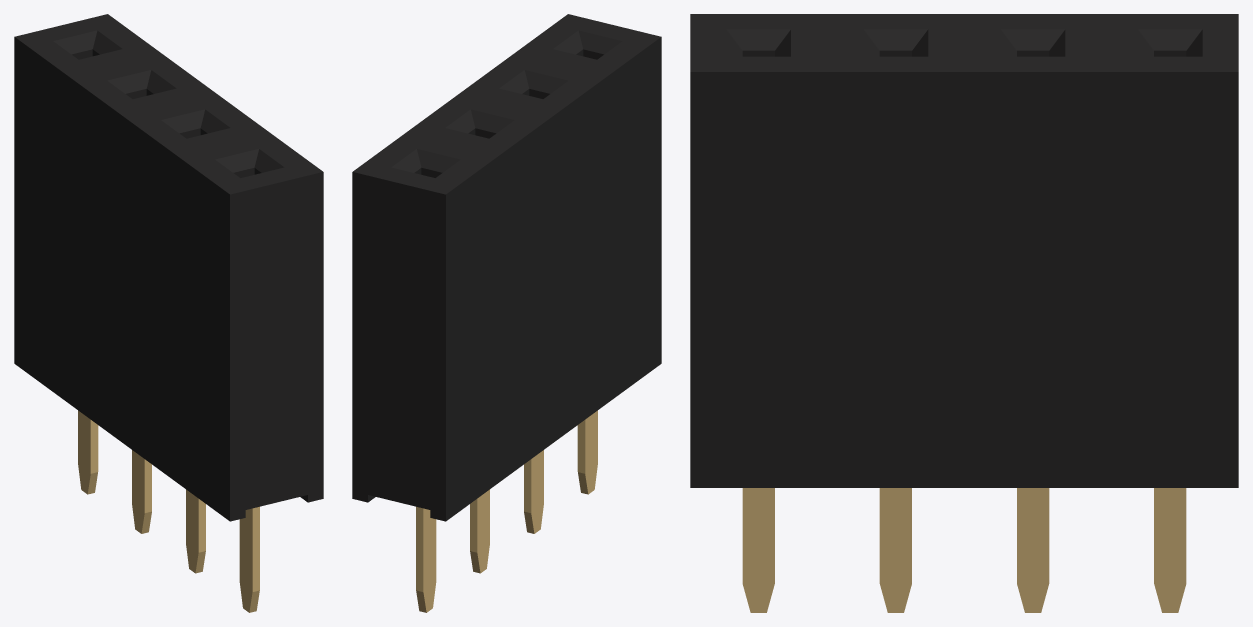
The model's file is pinsocket_1x04_p2_54mm_vertical.glb.
3 views of the same model, side by side, from view 1: azimuth 30°, elevation 25°; view 2: azimuth 150°, elevation 25°; view 3: azimuth 270°, elevation 25° (orthographic). The views are drawn at different scales.
Visible parts, largest first — view 1: socket_1x04, pin_4, pin_1, pin_2, pin_3; view 2: socket_1x04, pin_1, pin_4, pin_3, pin_2; view 3: socket_1x04, pin_1, pin_2, pin_3, pin_4.
Part boxes in pixels (<box>): socket_1x04: <box>14,14,323,521</box>; pin_4: <box>239,506,259,612</box>; pin_1: <box>78,410,98,494</box>; pin_2: <box>132,450,151,533</box>; pin_3: <box>186,489,205,573</box>; socket_1x04: <box>352,14,661,521</box>; pin_1: <box>416,506,436,612</box>; pin_4: <box>577,410,597,494</box>; pin_3: <box>524,450,543,533</box>; pin_2: <box>470,489,489,573</box>; socket_1x04: <box>690,14,1238,487</box>; pin_1: <box>1154,488,1186,612</box>; pin_2: <box>1017,488,1049,612</box>; pin_3: <box>879,488,911,612</box>; pin_4: <box>742,488,774,612</box>.
Size of the model in its own units: 0.00254 by 0.0116 by 0.0102.
